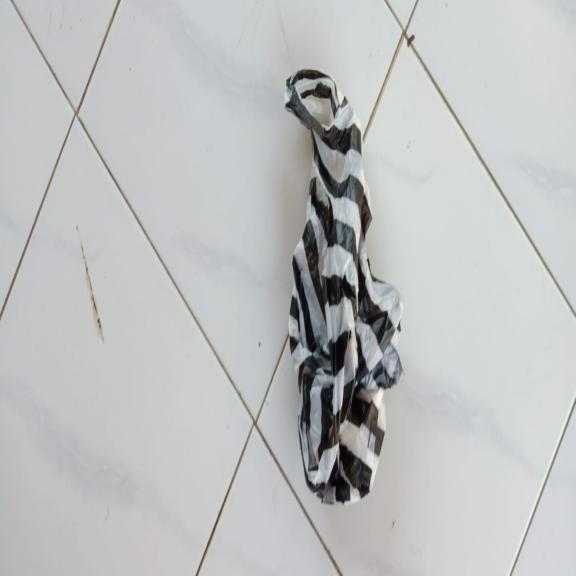Plastik: (283, 67, 406, 506)
